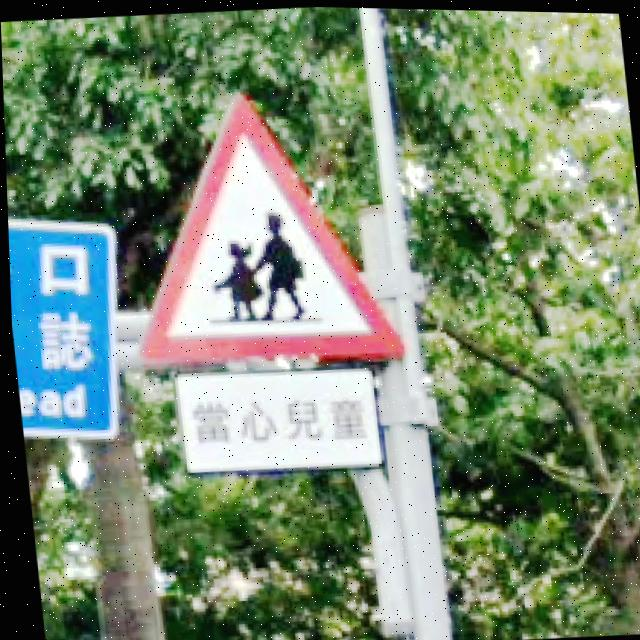childrencross: (137, 97, 401, 359)
